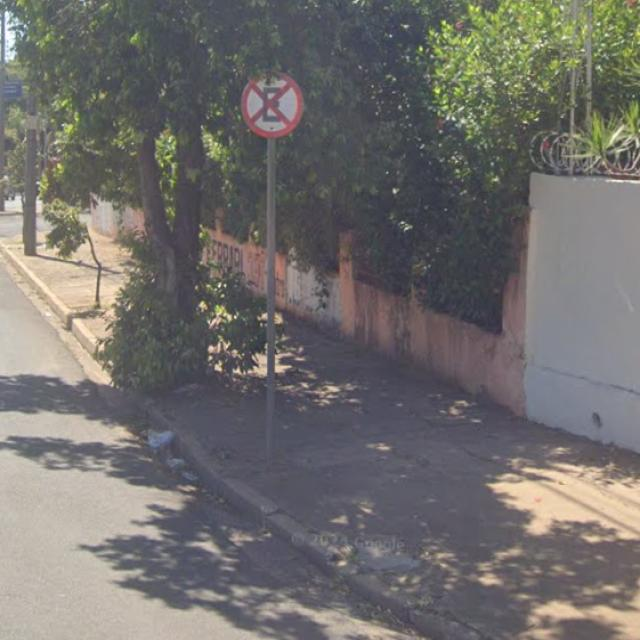no parking: (234, 56, 309, 150)
